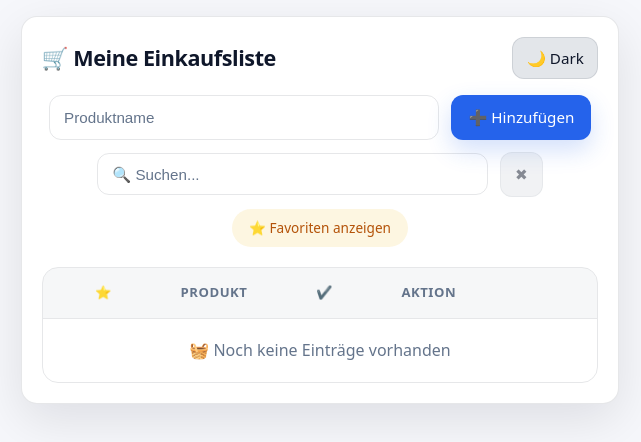
Test case: UI/DOM: Add + favorites button behavior › favorites button toggles its label
Click the button with class "favorites-btn" at (320, 228), box x1=232 y1=209 x2=408 y2=247
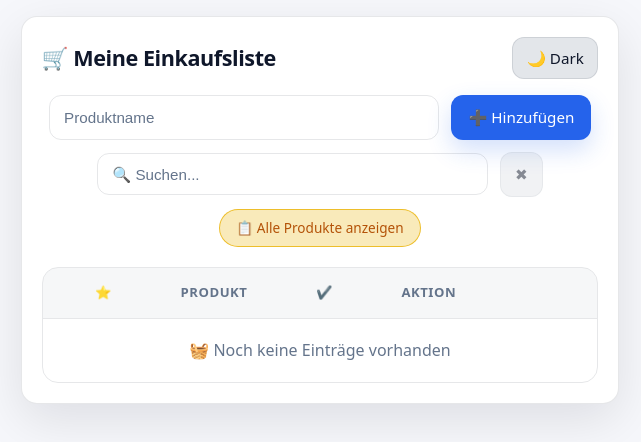
Now the button with class "favorites-btn" shows "Alle Produkte anzeigen", box x1=219 y1=209 x2=421 y2=247
